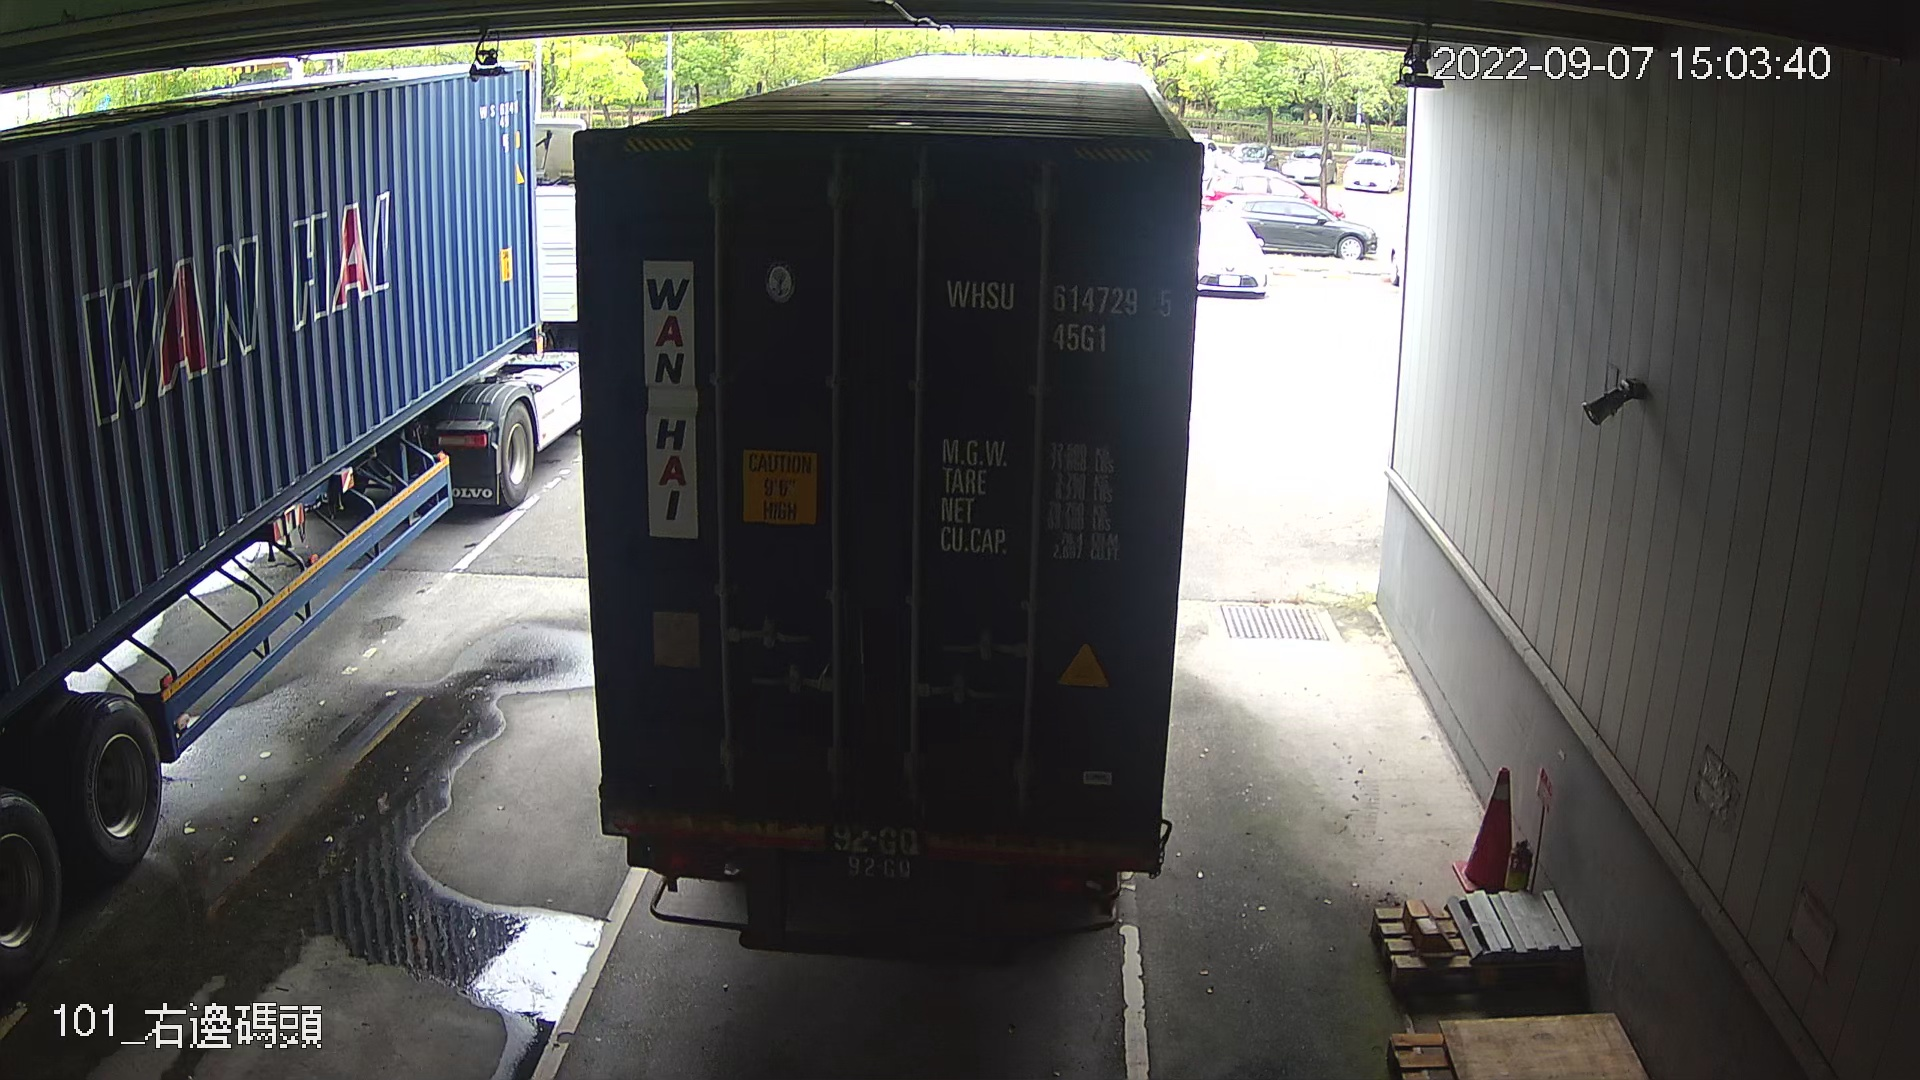container: (928, 264, 1178, 367)
